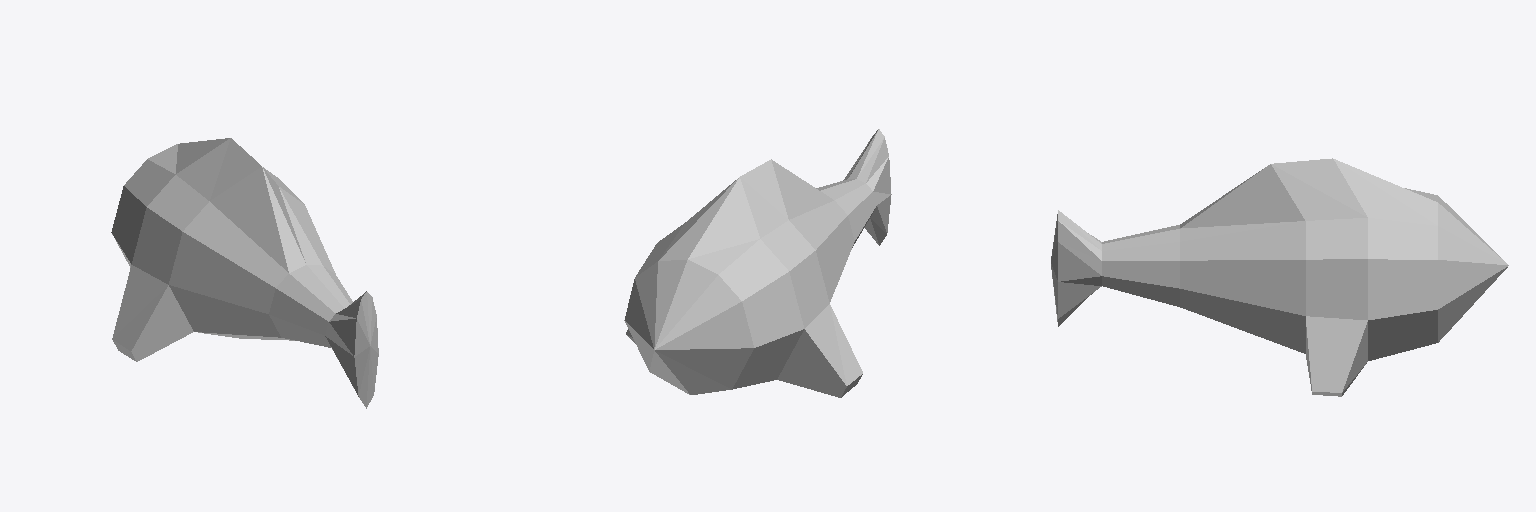
The model's file is vis.obj.
3 renders of one model, left to right at view 1: azimuth 30°, elevation 25°; view 2: azimuth 150°, elevation 25°; view 3: azimuth 270°, elevation 25°, orthographic.
Parts seen in each view (by area): view 1: Cylinder_Cylinder.001; view 2: Cylinder_Cylinder.001; view 3: Cylinder_Cylinder.001.
Part boxes in pixels (left/top/right/bottom): Cylinder_Cylinder.001: left=111, top=138, right=378, bottom=408; Cylinder_Cylinder.001: left=624, top=129, right=891, bottom=397; Cylinder_Cylinder.001: left=1051, top=158, right=1508, bottom=396.
Size of the model in its own units: 0.7081 by 0.5972 by 1.26.